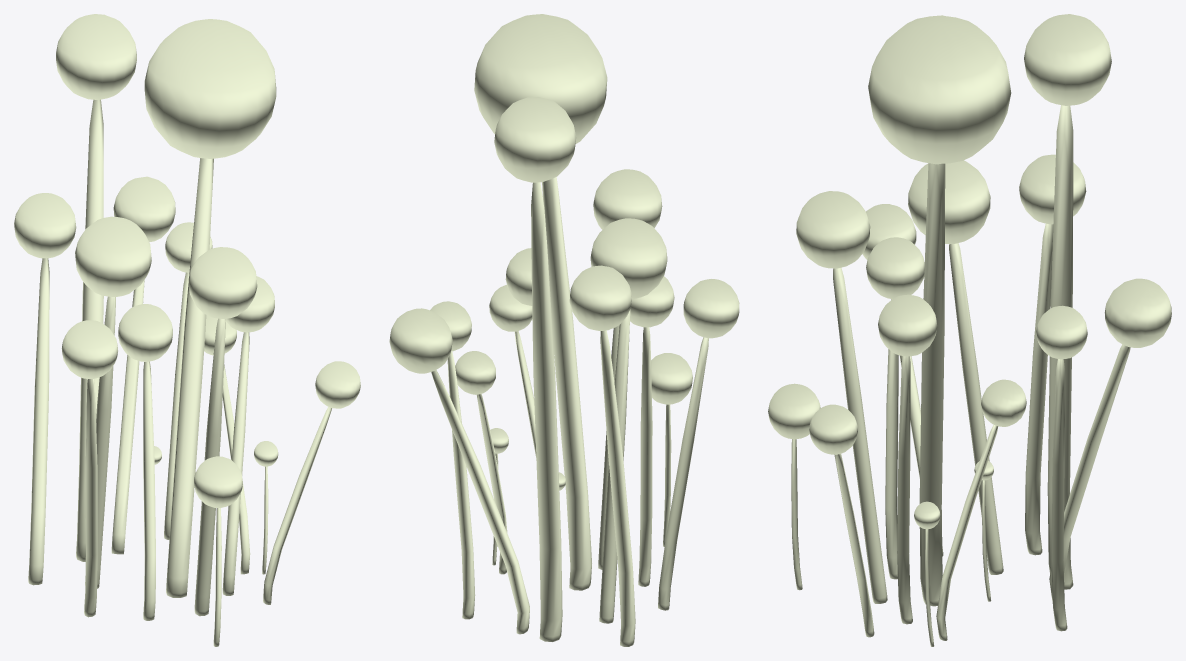
The model's file is flower2.fbx.
3 views of the same model, side by side, from view 1: azimuth 30°, elevation 25°; view 2: azimuth 150°, elevation 25°; view 3: azimuth 270°, elevation 25° (orthographic). The views are drawn at different scales.
Visible parts, largest first — view 1: fleur1.001; view 2: fleur1.001; view 3: fleur1.001.
Boxes of the visible parts, x1,y1,x2,y2 form: fleur1.001: (14, 14, 360, 646); fleur1.001: (389, 14, 739, 646); fleur1.001: (768, 14, 1171, 646).
Size of the model in its own units: 25.65 by 51.5 by 31.24.
